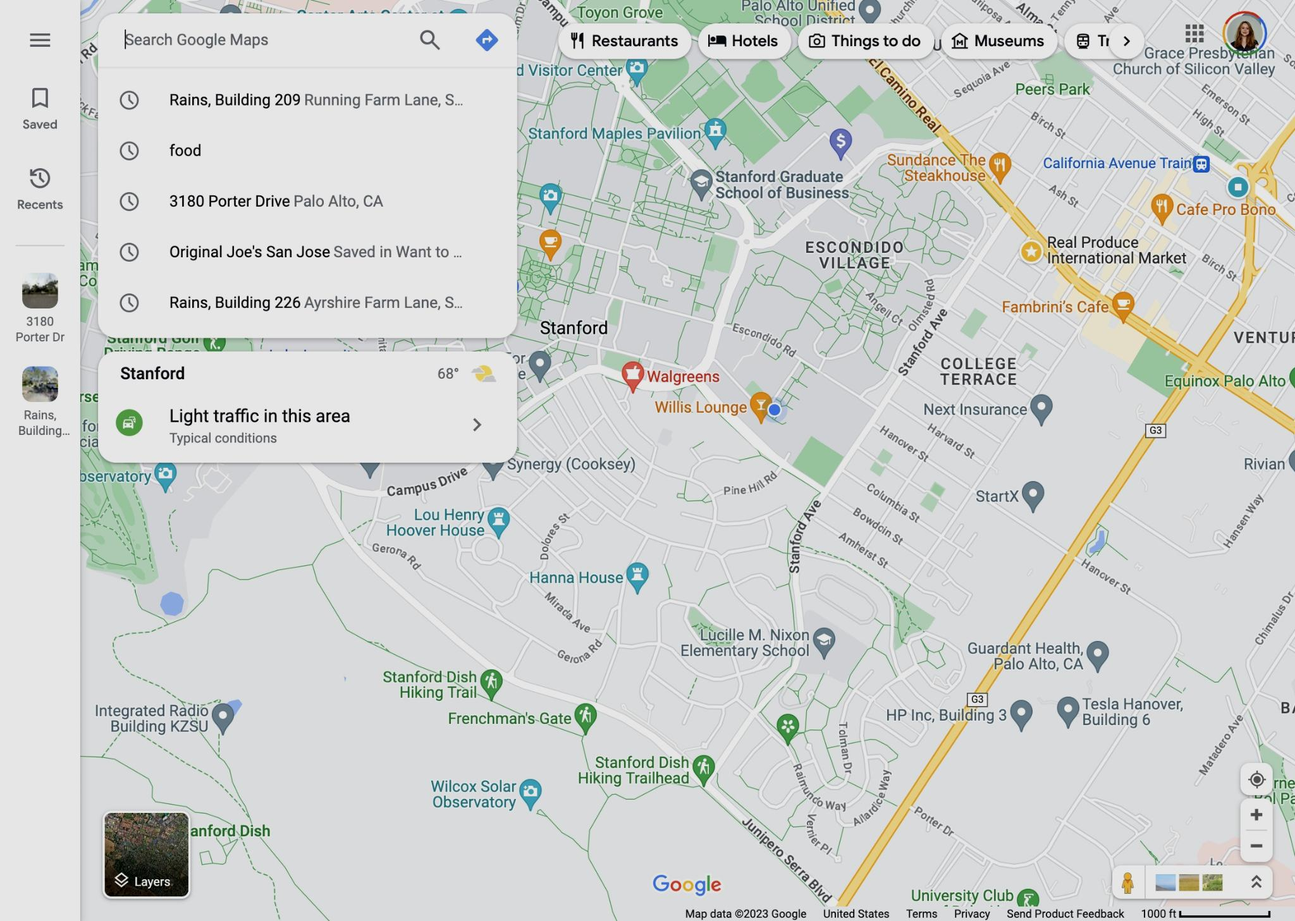webelement: (0, 0, 1294, 920), (97, 66, 516, 338), (0, 0, 79, 920), (541, 13, 1144, 66), (97, 396, 516, 454), (97, 13, 516, 66), (133, 773, 275, 916), (97, 234, 463, 271), (97, 284, 463, 321), (97, 82, 463, 118), (97, 133, 463, 169), (97, 183, 463, 219), (797, 13, 933, 66), (557, 13, 691, 66), (124, 25, 397, 51), (104, 812, 187, 896), (1166, 13, 1295, 66), (0, 263, 79, 347), (0, 357, 79, 441), (685, 906, 1140, 920), (939, 13, 1056, 66), (1063, 13, 1159, 66), (697, 13, 790, 66), (0, 75, 79, 137), (0, 155, 79, 217), (1145, 865, 1271, 898), (303, 91, 530, 109), (303, 294, 530, 312), (437, 351, 516, 395), (456, 13, 516, 66), (0, 17, 79, 57), (169, 242, 328, 260), (403, 13, 456, 66), (333, 242, 469, 260), (169, 91, 299, 109), (169, 294, 299, 312), (168, 192, 288, 210), (650, 870, 723, 899), (831, 29, 919, 51), (591, 29, 678, 51), (1199, 29, 1283, 51), (1140, 907, 1270, 920), (1006, 906, 1123, 920), (292, 192, 382, 210), (684, 907, 806, 920), (973, 29, 1043, 51), (21, 365, 57, 401), (468, 284, 503, 320), (1108, 22, 1143, 58), (21, 272, 57, 307), (468, 82, 503, 117), (468, 133, 503, 168), (468, 183, 503, 218), (468, 234, 503, 269), (1177, 16, 1210, 49), (1227, 16, 1260, 49), (1112, 865, 1145, 898), (1239, 797, 1271, 830), (1239, 762, 1271, 794), (1239, 829, 1271, 861), (731, 29, 776, 51), (823, 906, 888, 920), (469, 360, 496, 386), (117, 88, 141, 112), (117, 138, 141, 162), (169, 141, 201, 159), (117, 189, 141, 213), (117, 239, 141, 263), (117, 291, 141, 314), (953, 906, 988, 920), (134, 874, 169, 887), (1140, 907, 1175, 920), (905, 906, 936, 920), (566, 30, 586, 50), (1072, 30, 1092, 50), (1175, 30, 1195, 50), (110, 870, 130, 890), (707, 30, 726, 50), (806, 30, 825, 50), (949, 30, 968, 50)
